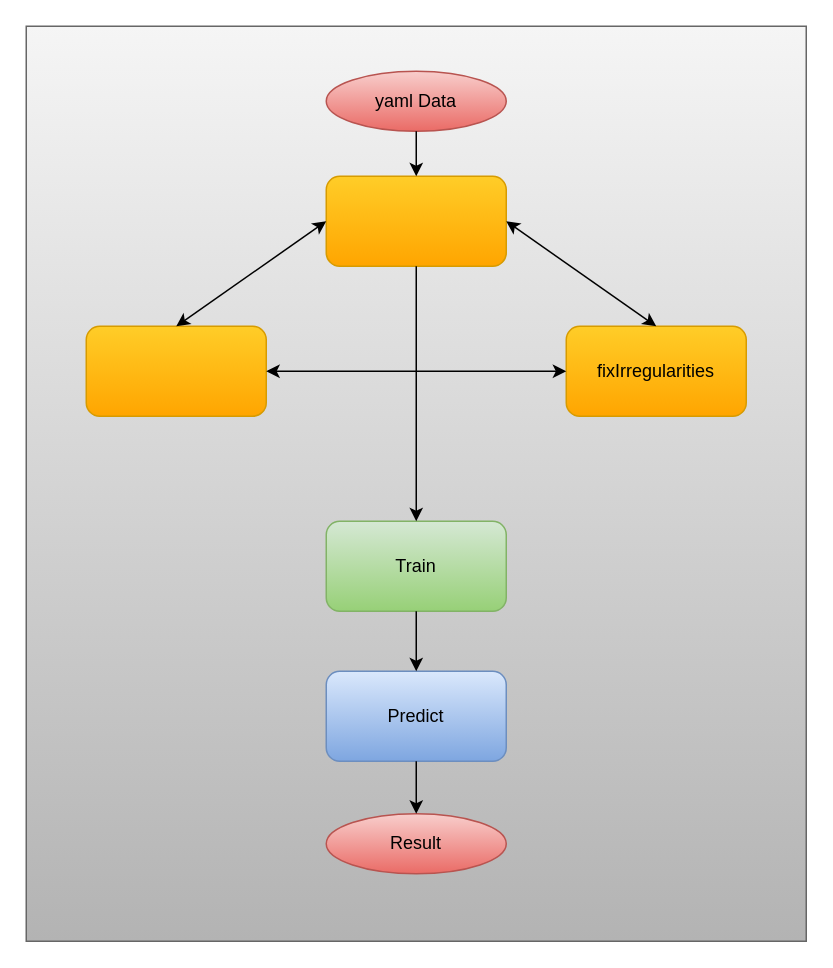
The diagram is 833 pixels wide and 968 high, and some of its shapes have lost their labels. Here are the shapes that lost their labels. From the top down, the centre of each, then its label:
pixel 415 220: dataTransformer
pixel 175 370: fetchInfo
